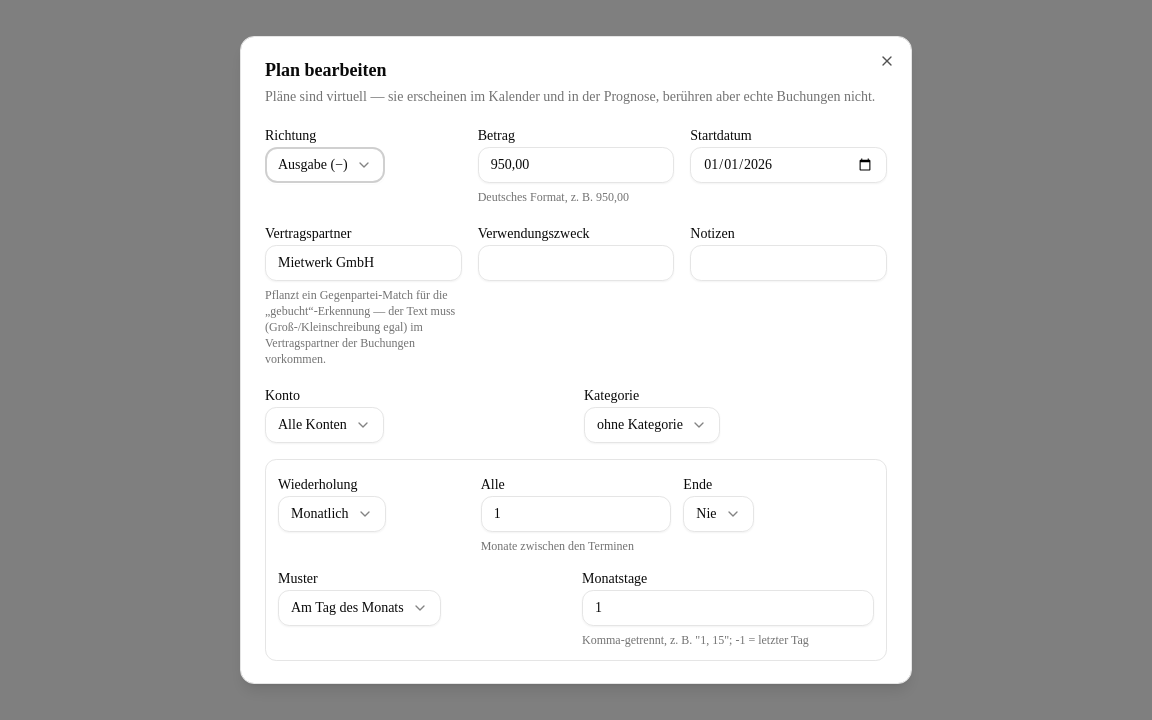
Scenario: plan dialog: invalid builder input must not crash the page › an 'Alle' interval beyond 100 fails inline, not as a save-time 400
The image size is (1152, 720).
Replace the text in the number field labelled "Alle Monate zwischen den Terminen" with "500" at (576, 514), box top-left (481, 496), bottom-right (671, 532)
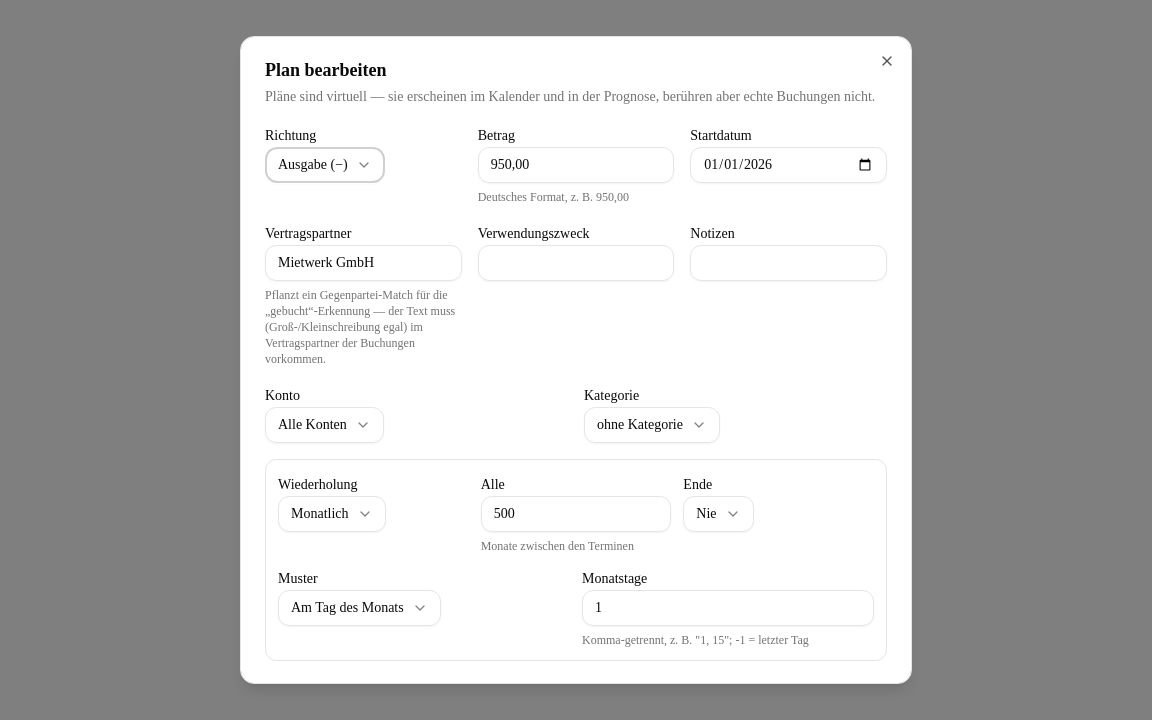
Replace the text in the number field labelled "Alle Monate zwischen den Terminen" with "2" at (576, 514), box top-left (481, 496), bottom-right (671, 532)
(page scrolled)
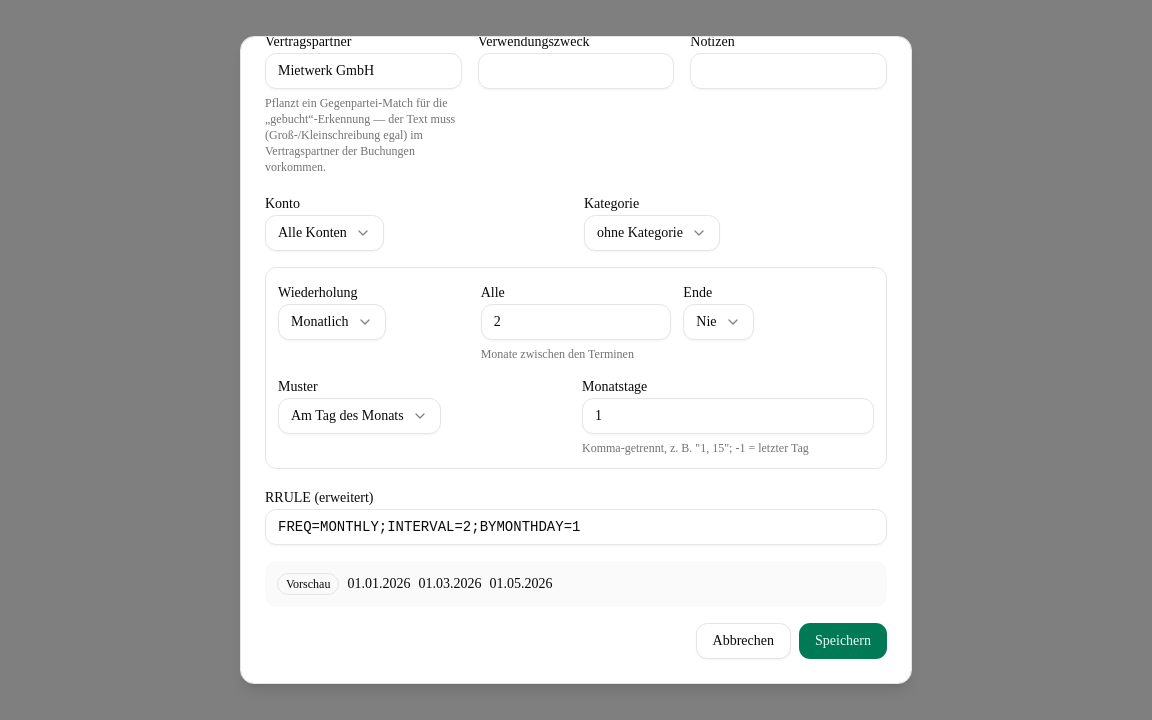
Result: the button "Speichern" is enabled at top-left (799, 623), bottom-right (887, 659)
